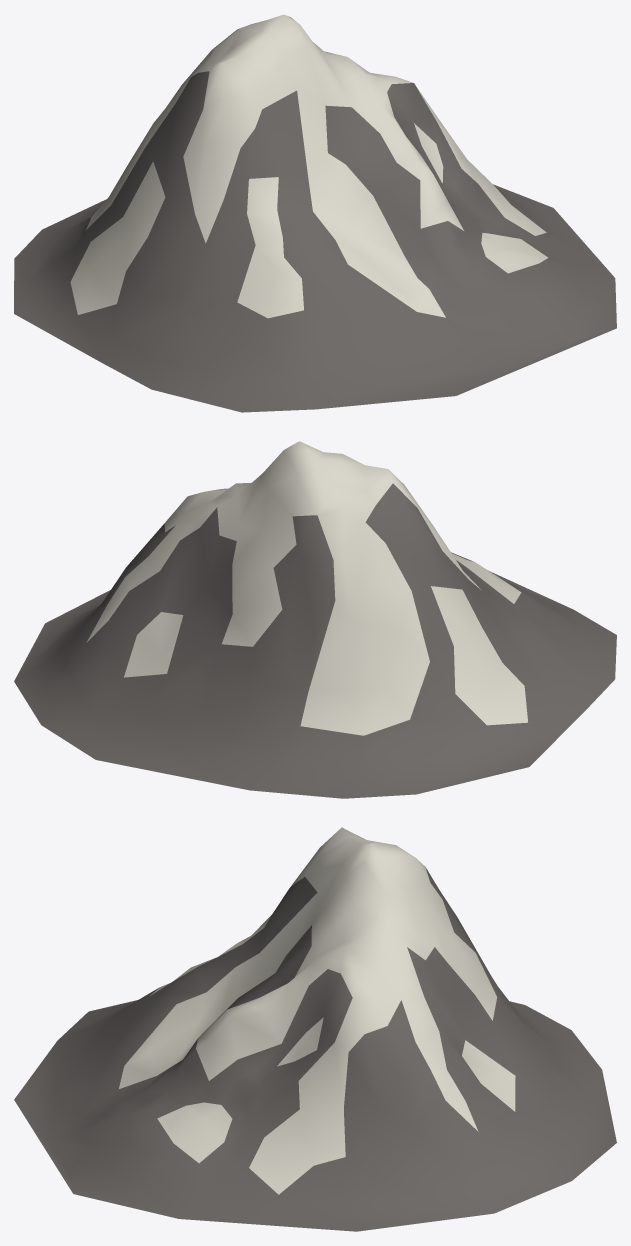
Rendered from rpgpp_ag_mountain_01.fbx.
The picture shows the model from 3 angles, top to bottom: view 1: azimuth 30°, elevation 25°; view 2: azimuth 150°, elevation 25°; view 3: azimuth 270°, elevation 25°; orthographic projection. The views are drawn at different scales.
Parts seen in each view (by area): view 1: rpgpp_ag_mountain_01; view 2: rpgpp_ag_mountain_01; view 3: rpgpp_ag_mountain_01.
Part boxes in pixels (x1,y1,x2,y2): rpgpp_ag_mountain_01: (14, 14, 616, 412); rpgpp_ag_mountain_01: (14, 441, 616, 798); rpgpp_ag_mountain_01: (14, 827, 616, 1231).
Bounding box in the file's own units: 166 × 78.35 × 166.
